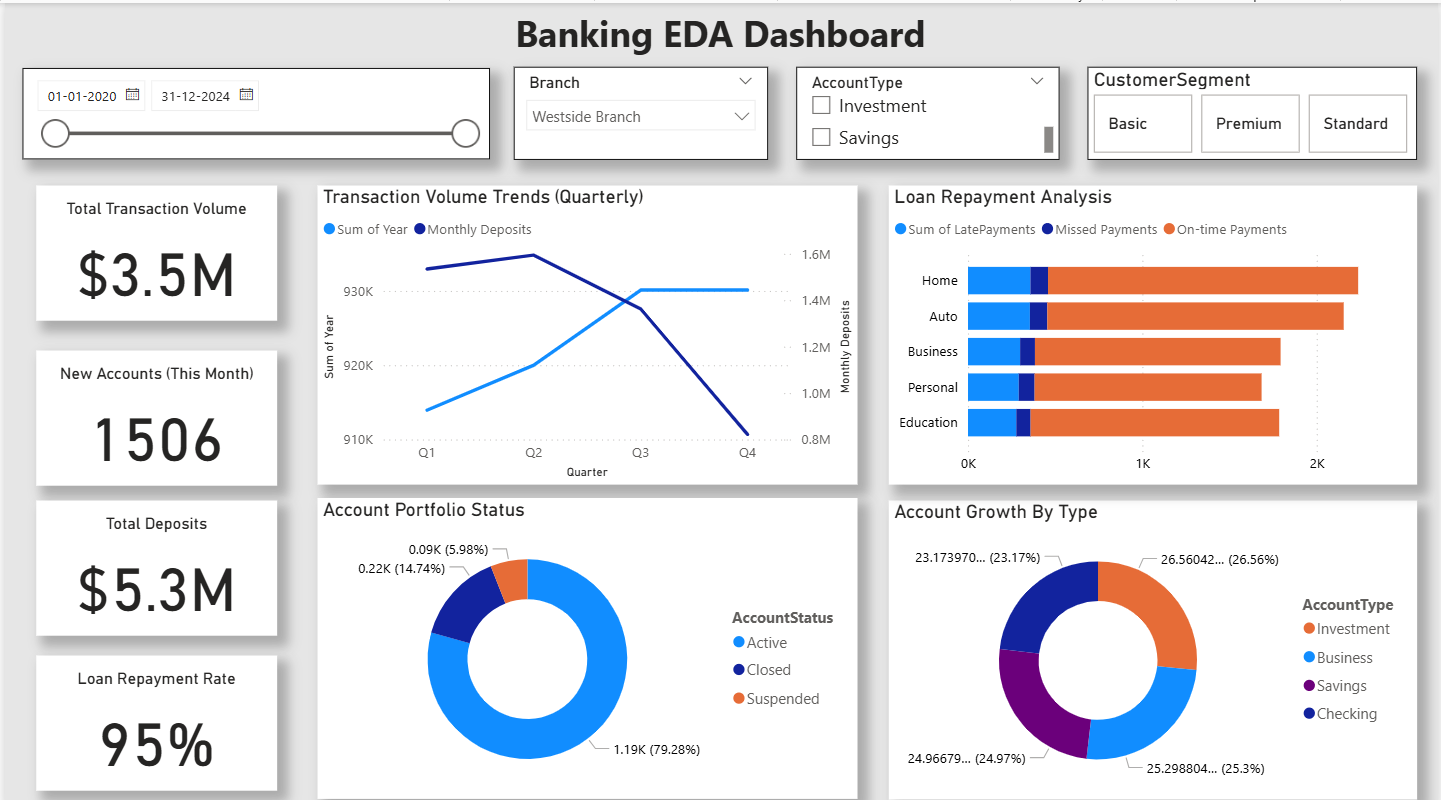

Layout of this report page (visuals, bound fields, positions):
{"tool":"powerbi","page":{"name":"Page 1","canvas":[1280,720],"ordinal":0},"visuals":[{"type":"slicer","fields":{"Values":["customers.Branch"]},"box":[454.1,56.4,227,83.3],"z":0},{"type":"slicer","title":"DATE","fields":{"Values":["DateDimension.Date"]},"box":[16.1,57.8,417.8,81.9],"z":1000},{"type":"advancedSlicerVisual","fields":{"Values":["customers.CustomerSegment"]},"box":[967.3,56.4,294.2,83.3],"z":2000},{"type":"card","title":"Total Transaction Volume","fields":{"Values":["MeasuresINC.Transaction Volume Formatted"]},"box":[28.2,162.6,214.9,120.9],"z":3000},{"type":"slicer","fields":{"Values":["accounts.AccountType"]},"box":[706.6,56.4,235.1,83.3],"z":4000},{"type":"card","title":"New Accounts (This Month)","fields":{"Values":["MeasuresINC.New Accounts This Month"]},"box":[28.2,310.3,214.9,120.9],"z":5000},{"type":"card","title":"Total Deposits","fields":{"Values":["MeasuresINC.Deposit Amount Formatted"]},"box":[28.2,444.7,214.9,120.9],"z":6000},{"type":"card","title":"Loan Repayment Rate","fields":{"Values":["MeasuresINC.Loan Repayment Rate %"]},"box":[28.2,583,214.9,120.9],"z":7000},{"type":"lineChart","title":"Transaction Volume Trends (Quarterly)","fields":{"Category":["DateDimension.Quarter"],"Y2":["MeasuresINC.Monthly Deposits"],"Y":["Sum(DateDimension.Year)"]},"box":[279.2,163,482.4,266.9],"z":8000},{"type":"donutChart","title":"Account Growth By Type","fields":{"Category":["accounts.AccountType"],"Y":["MeasuresINC.-- Account Type % DistributionAccount Type %"]},"box":[789.5,444.4,472.3,266.9],"z":9000},{"type":"barChart","title":"Loan Repayment Analysis","fields":{"Category":["loans.LoanType"],"Y":["Sum(loans.LatePayments)","MeasuresINC.Missed Payments","MeasuresINC.On-time Payments"]},"box":[789.5,163,472.3,266.9],"z":10000},{"type":"textbox","box":[287.5,0,703.9,59.1],"z":11000},{"type":"donutChart","title":"Account Portfolio Status","fields":{"Category":["accounts.AccountStatus"],"Y":["CountNonNull(accounts.AccountID)"]},"box":[279.2,442.2,482.4,269.1],"z":12000}]}

Visuals, with their boxes in screenshot pixels (x1, y1, x2, y2), scaled from the page's 1280x720 canvas onto the 1441x800 screenshot:
slicer - customers.Branch: [511, 63, 767, 155]
"DATE" slicer: [18, 64, 488, 155]
advancedSlicerVisual - customers.CustomerSegment: [1089, 63, 1420, 155]
"Total Transaction Volume" card: [32, 181, 274, 315]
slicer - accounts.AccountType: [795, 63, 1060, 155]
"New Accounts (This Month)" card: [32, 345, 274, 479]
"Total Deposits" card: [32, 494, 274, 628]
"Loan Repayment Rate" card: [32, 648, 274, 782]
"Transaction Volume Trends (Quarterly)" lineChart: [314, 181, 857, 478]
"Account Growth By Type" donutChart: [889, 494, 1421, 790]
"Loan Repayment Analysis" barChart: [889, 181, 1421, 478]
textbox: [324, 0, 1116, 66]
"Account Portfolio Status" donutChart: [314, 491, 857, 790]
